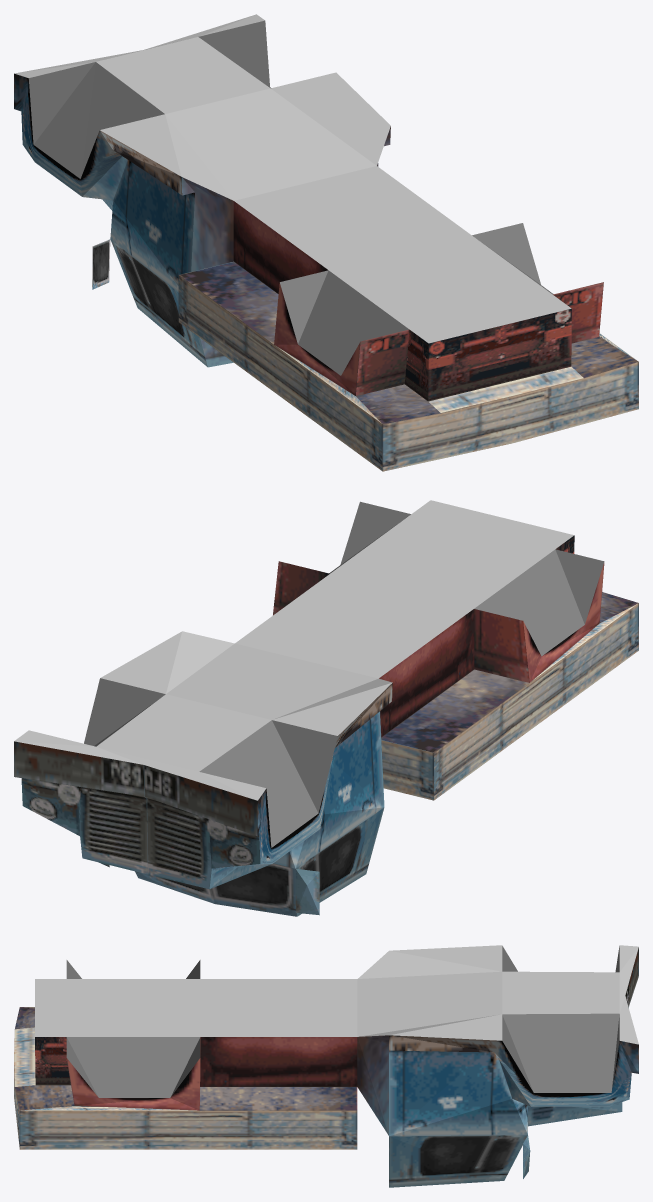
Rendered from HAVANA_model8_damaged.obj.
3 renders of one model, top to bottom at view 1: azimuth 30°, elevation 25°; view 2: azimuth 150°, elevation 25°; view 3: azimuth 270°, elevation 25°, orthographic. The views are drawn at different scales.
Visible parts, largest first — view 1: HAVANA_model8_damaged; view 2: HAVANA_model8_damaged; view 3: HAVANA_model8_damaged.
Part boxes in pixels (x1=…): HAVANA_model8_damaged: x1=14, y1=14, x2=638, y2=471; HAVANA_model8_damaged: x1=14, y1=500, x2=638, y2=916; HAVANA_model8_damaged: x1=14, y1=945, x2=638, y2=1187.
Size of the model in its own units: 340 by 256 by 868.
